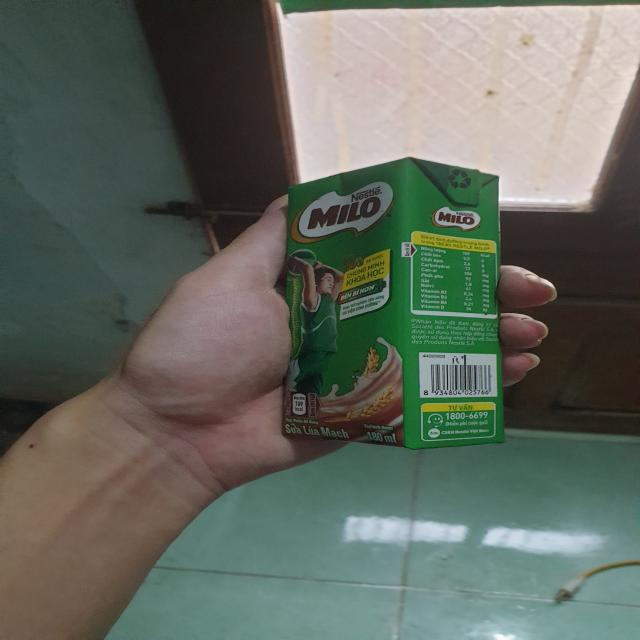Milo: (279, 157, 512, 452)
